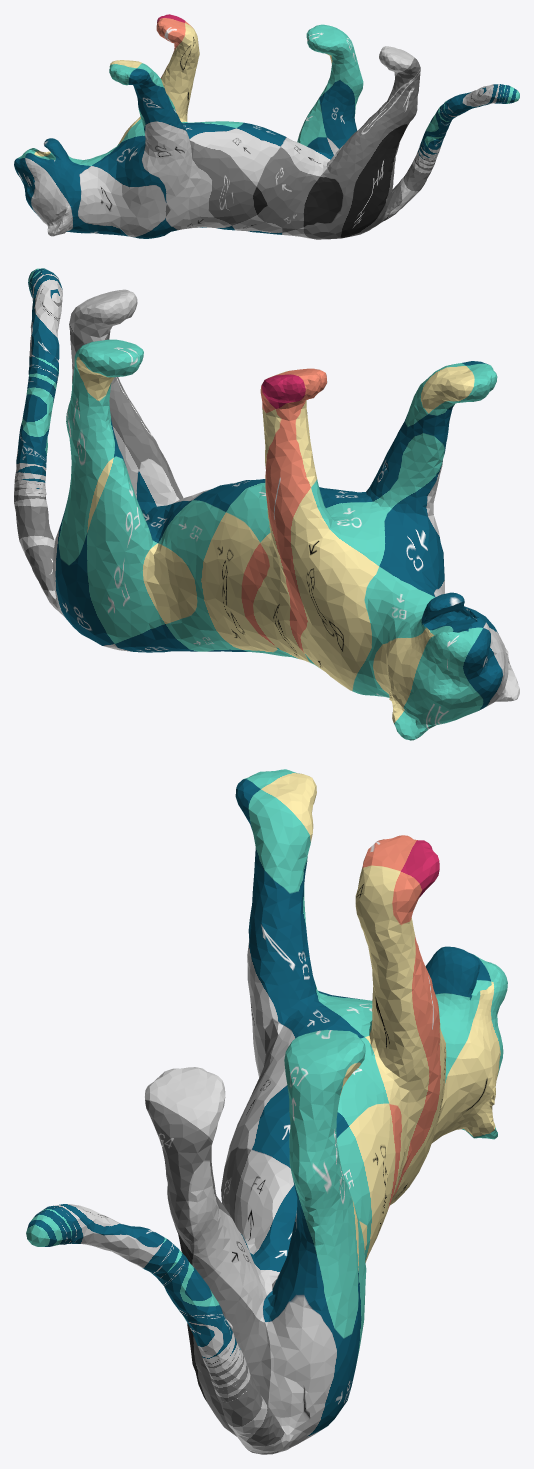
File: hippo_06-cougar_01.obj
The picture shows the model from 3 angles, top to bottom: view 1: azimuth 30°, elevation 25°; view 2: azimuth 150°, elevation 25°; view 3: azimuth 270°, elevation 25°; orthographic projection. The views are drawn at different scales.
Visible parts, largest first — view 1: hippo_06-cougar_01_export; view 2: hippo_06-cougar_01_export; view 3: hippo_06-cougar_01_export.
Part boxes in pixels (bbox=[...]): hippo_06-cougar_01_export: bbox=[14, 14, 519, 239]; hippo_06-cougar_01_export: bbox=[14, 268, 519, 740]; hippo_06-cougar_01_export: bbox=[26, 769, 507, 1454].
Bounding box in the file's own units: 1.06 × 0.5852 × 0.5632.
